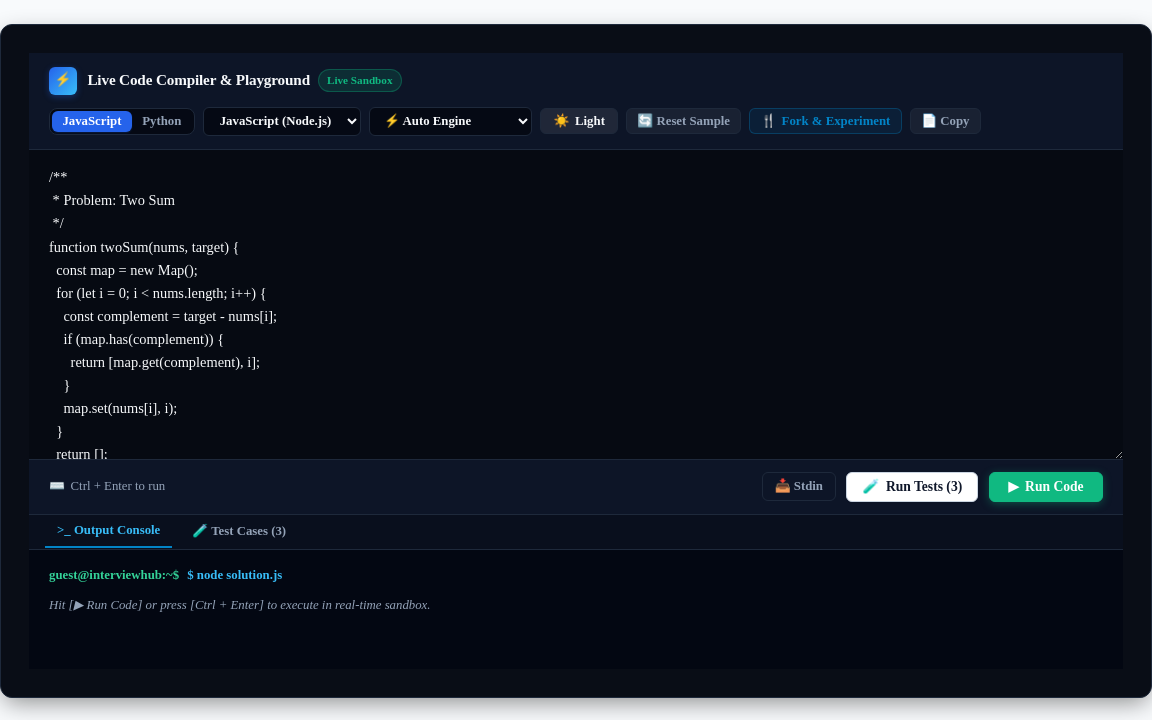
Test: Replit-Style Code Playground & Test Runner › runs quick test cases in UI and displays pass badges
Click the button "🧪 Run Tests (3)" at (912, 487), box [846,472,978,502]
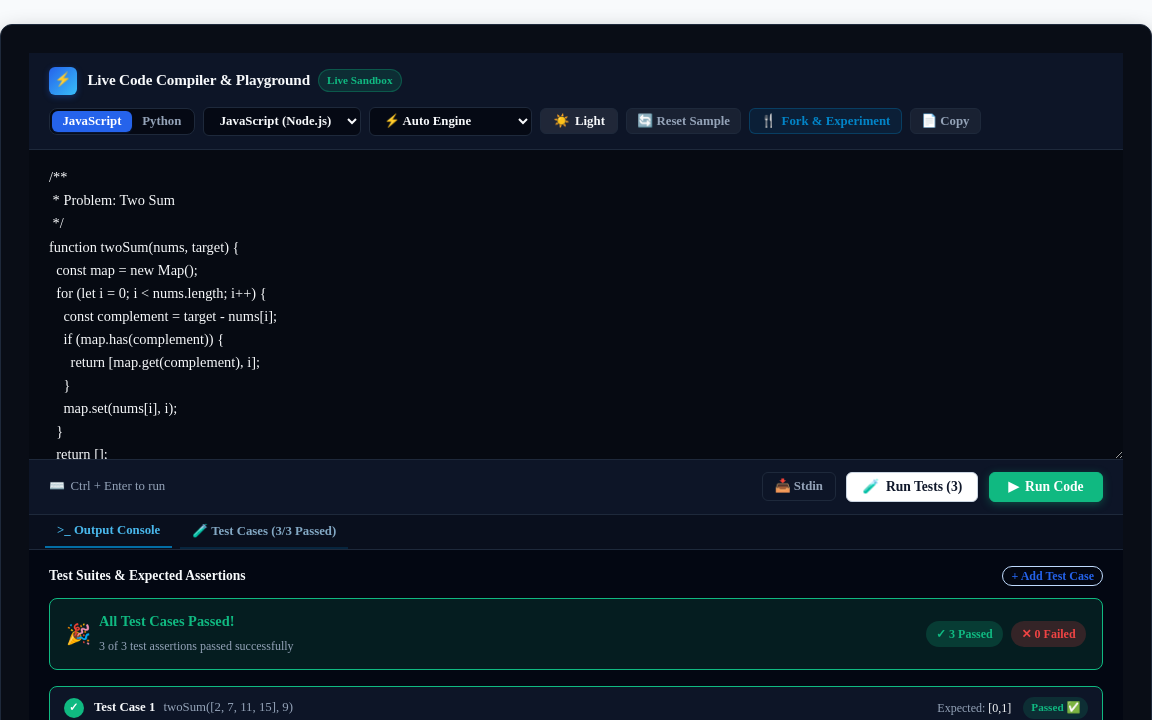
expect the text "🧪 Test Cases (3/3 Passed)" is shown: met, box [192,522,336,538]
